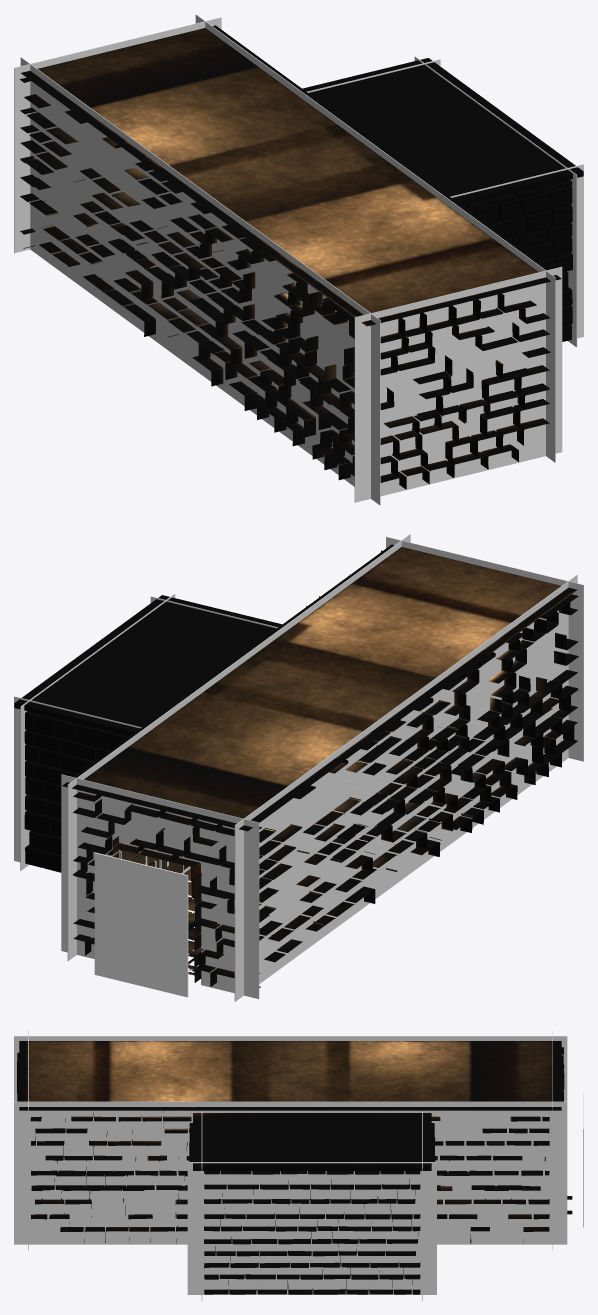
The model's file is corridor.glb.
The picture shows the model from 3 angles, top to bottom: view 1: azimuth 30°, elevation 25°; view 2: azimuth 150°, elevation 25°; view 3: azimuth 270°, elevation 25°; orthographic projection. The views are drawn at different scales.
Parts seen in each view (by area): view 1: flat_mortar_walls, ceiling, walls, guardroom, flat_mortar_guardroom; view 2: ceiling, flat_mortar_walls, walls, guardroom, emit_tunnel, flat_mortar_guardroom; view 3: flat_mortar_walls, ceiling, guardroom, flat_mortar_guardroom, walls.
Part boxes in pixels (x1,y1,x2,y2): flat_mortar_walls: (14, 14, 562, 505); ceiling: (21, 25, 561, 326); walls: (20, 77, 550, 489); guardroom: (302, 58, 583, 341); flat_mortar_guardroom: (306, 56, 583, 347); ceiling: (62, 544, 577, 831); flat_mortar_walls: (61, 534, 583, 1001); walls: (72, 550, 578, 987); guardroom: (14, 595, 281, 872); emit_tunnel: (94, 852, 188, 997); flat_mortar_guardroom: (14, 594, 277, 870); flat_mortar_walls: (14, 1030, 567, 1250); ceiling: (19, 1041, 561, 1110); guardroom: (189, 1113, 435, 1294); flat_mortar_guardroom: (187, 1112, 436, 1300); walls: (17, 1047, 564, 1243).
Size of the model in its own units: 5.6 by 2.9 by 10.51.
Materials: 11 (7 with a texture image).
